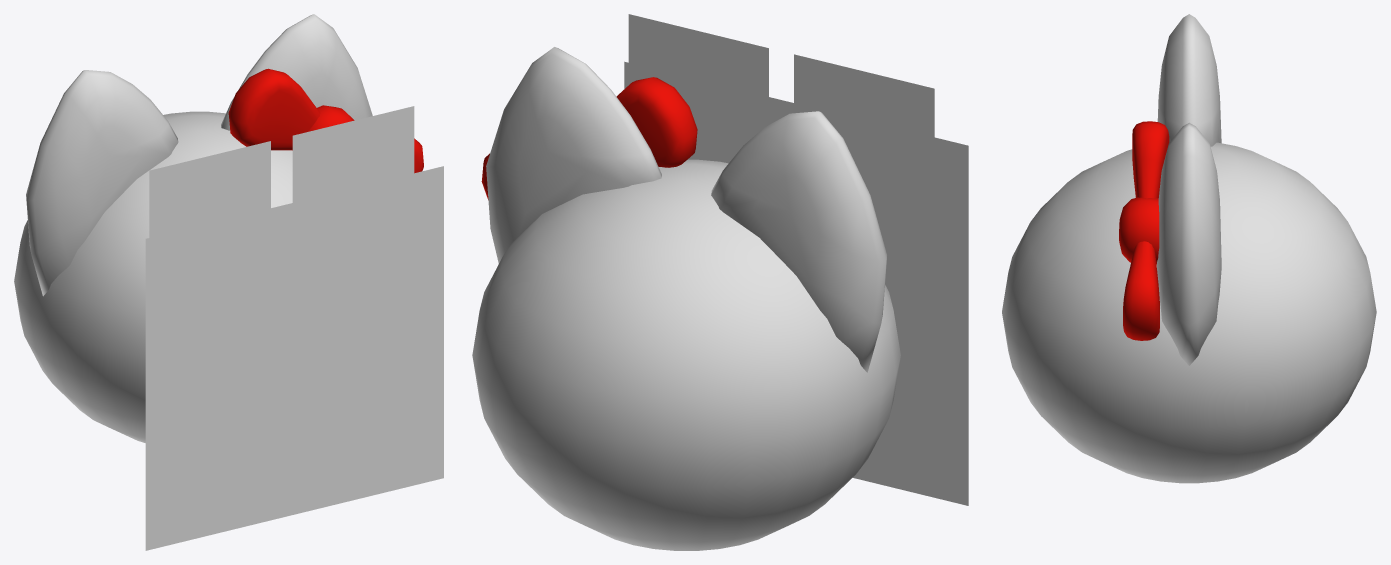
The model's file is cat.fbx.
3 renders of one model, left to right at view 1: azimuth 30°, elevation 25°; view 2: azimuth 150°, elevation 25°; view 3: azimuth 270°, elevation 25°, orthographic. The views are drawn at different scales.
Parts seen in each view (by area): view 1: mouth, cat.001, eyes, cat.002; view 2: cat.001, eyes, mouth, cat.002; view 3: cat.001, cat.002.
Part boxes in pixels (x1=…): mouth: x1=145, y1=166, x2=443, y2=550; cat.001: x1=14, y1=14, x2=372, y2=442; eyes: x1=149, y1=106, x2=414, y2=237; cat.002: x1=228, y1=68, x2=423, y2=173; cat.001: x1=472, y1=47, x2=900, y2=550; eyes: x1=628, y1=14, x2=934, y2=235; mouth: x1=624, y1=61, x2=968, y2=505; cat.002: x1=481, y1=77, x2=697, y2=199; cat.001: x1=1002, y1=14, x2=1376, y2=483; cat.002: x1=1119, y1=121, x2=1169, y2=340.
Bounding box in the file's own units: 62.1 × 64.71 × 54.67.
